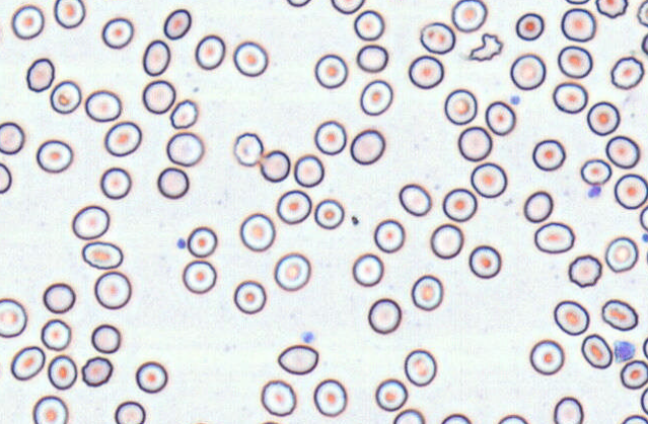PLT: (610, 341, 637, 363), (587, 184, 604, 200), (299, 330, 317, 344), (174, 236, 186, 251), (510, 93, 522, 108), (641, 230, 648, 245)
RBC: (273, 252, 311, 291), (94, 270, 131, 309), (239, 212, 275, 251), (509, 53, 546, 90), (71, 204, 109, 240), (103, 120, 141, 156), (470, 162, 507, 198), (260, 379, 296, 416), (166, 131, 204, 166), (313, 378, 347, 417), (533, 221, 574, 253), (553, 299, 589, 335), (232, 40, 268, 76), (350, 128, 385, 165), (529, 338, 564, 375), (35, 139, 73, 173), (10, 345, 45, 381), (457, 125, 492, 161), (560, 7, 596, 42), (408, 54, 444, 89), (367, 297, 401, 334), (604, 236, 638, 273), (403, 348, 436, 386), (276, 189, 311, 224), (442, 187, 477, 222), (613, 173, 647, 209), (586, 100, 620, 136), (359, 79, 393, 115), (601, 298, 638, 331), (410, 274, 443, 311), (444, 88, 477, 125), (84, 89, 121, 122), (81, 240, 123, 269), (10, 4, 44, 39), (182, 259, 216, 294), (610, 55, 644, 90), (605, 135, 640, 169), (419, 21, 455, 54), (430, 223, 463, 259), (552, 81, 588, 114), (557, 45, 592, 78), (142, 79, 175, 114), (468, 244, 501, 279), (233, 279, 266, 314), (314, 53, 347, 88), (451, 0, 487, 32), (568, 254, 602, 287), (484, 100, 516, 135), (49, 79, 81, 114), (373, 218, 405, 253), (314, 120, 346, 155), (194, 34, 225, 70), (581, 333, 612, 369), (156, 166, 189, 199), (398, 183, 431, 216), (532, 138, 565, 171), (352, 252, 383, 287), (0, 297, 27, 337), (47, 354, 77, 390), (375, 378, 407, 411), (101, 16, 133, 49), (135, 360, 167, 393), (99, 166, 131, 199), (293, 153, 324, 187), (142, 39, 170, 76), (259, 149, 290, 182), (40, 318, 71, 351), (42, 282, 75, 313), (233, 132, 263, 166), (32, 395, 68, 423), (186, 225, 217, 257), (523, 190, 553, 223), (26, 57, 54, 92), (81, 356, 112, 387), (353, 9, 384, 40), (313, 198, 344, 229), (90, 323, 120, 353), (53, 0, 85, 28), (356, 44, 388, 72), (163, 8, 191, 40), (169, 99, 198, 129), (580, 158, 612, 185), (515, 12, 544, 41), (619, 359, 647, 389), (553, 396, 583, 423), (0, 121, 24, 154), (114, 400, 145, 423), (595, 0, 628, 18), (392, 408, 425, 423), (330, 0, 364, 14), (0, 162, 12, 194), (636, 0, 648, 26), (497, 413, 528, 423), (440, 413, 471, 423), (620, 414, 647, 423), (640, 386, 648, 415), (639, 204, 647, 231), (286, 0, 311, 7), (641, 32, 648, 55), (642, 336, 648, 359), (564, 0, 590, 5), (0, 16, 4, 45), (188, 420, 214, 424), (257, 420, 283, 424), (645, 248, 648, 266)
Schistocyte: (277, 344, 321, 376), (469, 31, 505, 64)
